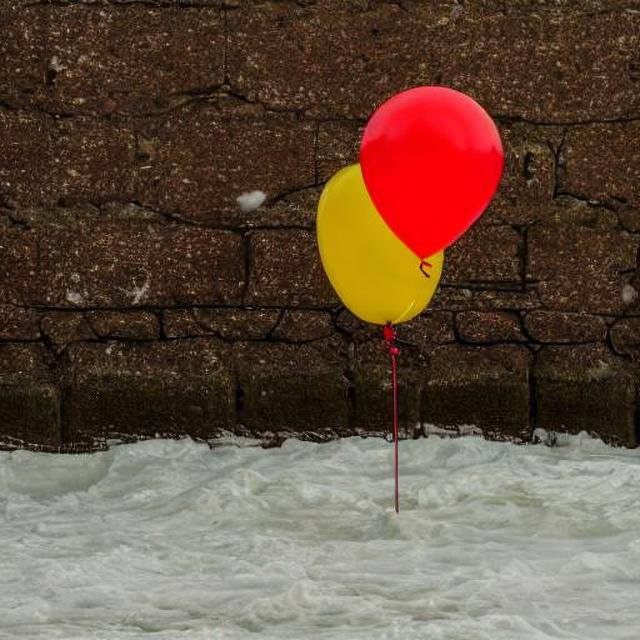balloon: (316, 84, 508, 340)
